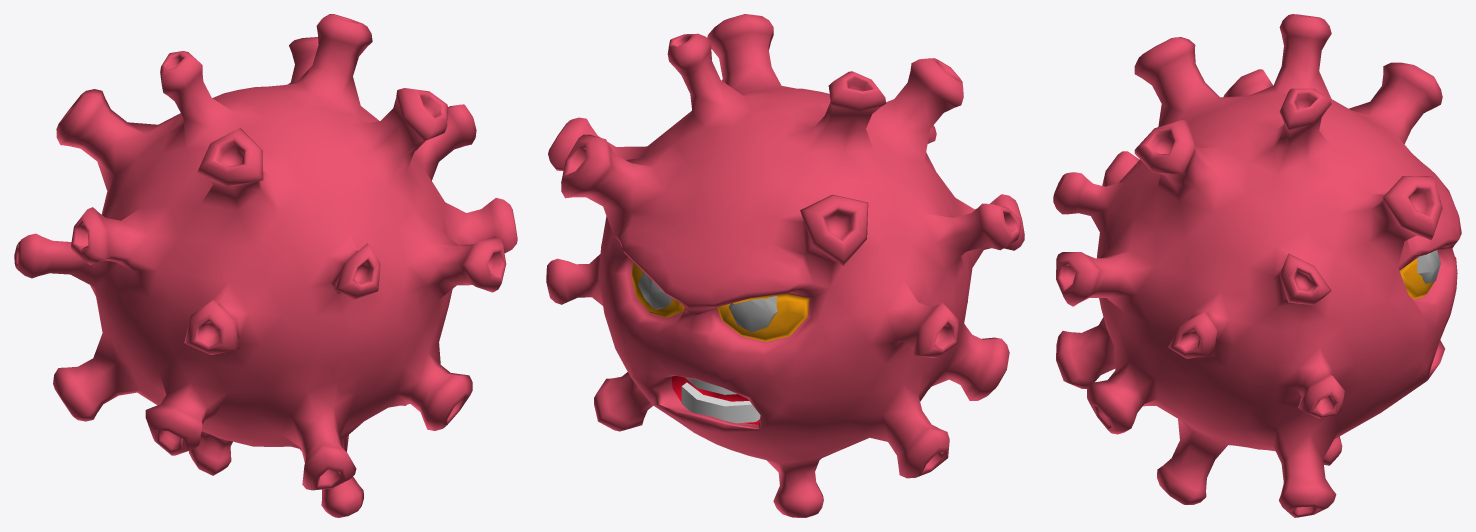
File: Corona.fbx
3 renders of one model, left to right at view 1: azimuth 30°, elevation 25°; view 2: azimuth 150°, elevation 25°; view 3: azimuth 270°, elevation 25°, orthographic. The views are drawn at different scales.
Visible parts, largest first — view 1: polySurface3; view 2: polySurface3; view 3: polySurface3.
Boxes of the visible parts, bbox=[...] form: polySurface3: bbox=[14, 14, 517, 517]; polySurface3: bbox=[546, 14, 1024, 517]; polySurface3: bbox=[1053, 14, 1461, 517].
Bounding box in the file's own units: 4.24 × 4.24 × 3.59.
